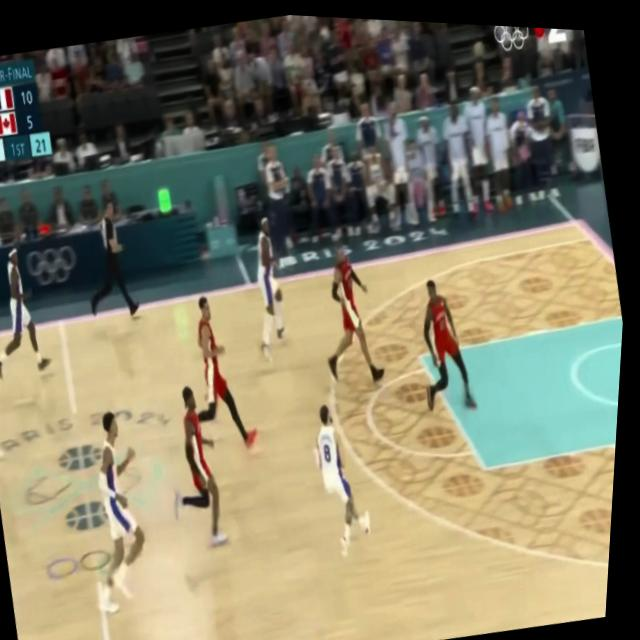ball_handler: (303, 392, 385, 559)
